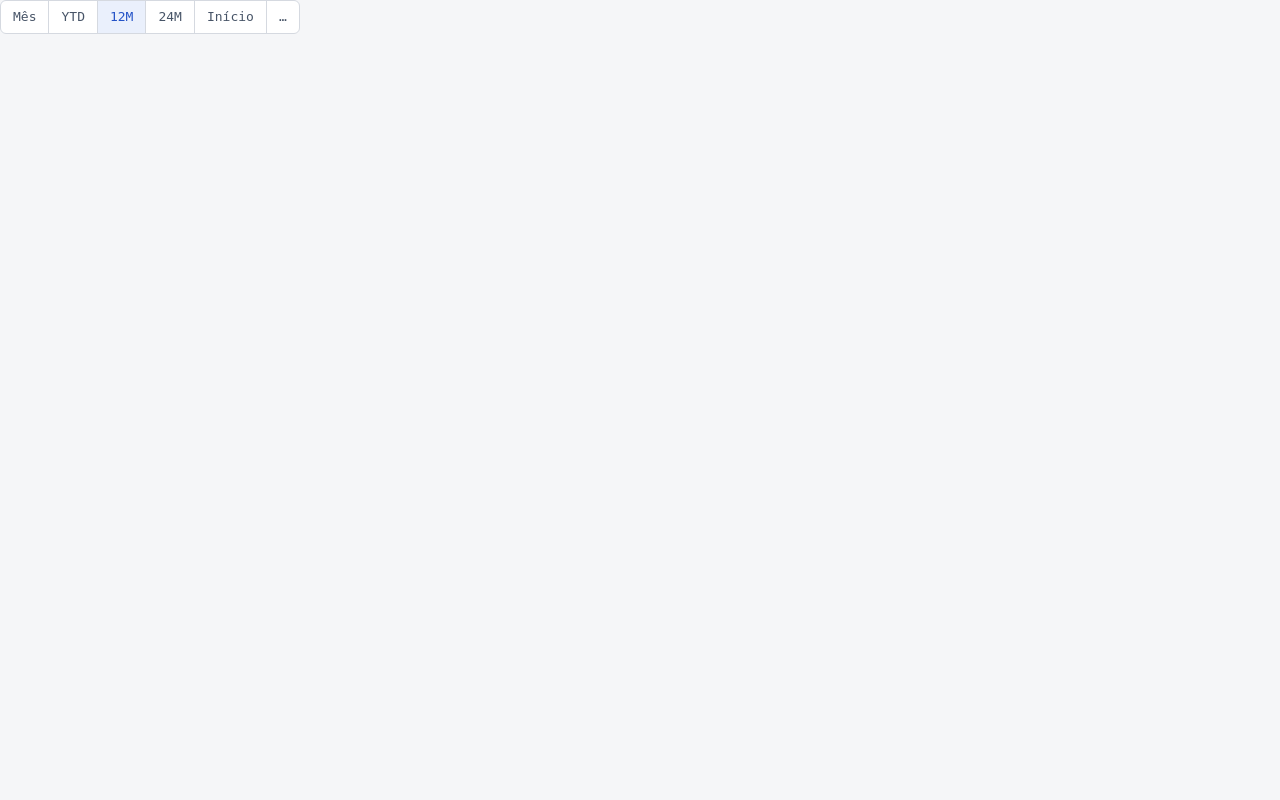
Test: barra de controles › o calendário fecha com Esc e devolve o foco ao botão
Click the button "…". click: click(283, 17)
box: [267,1,299,33]
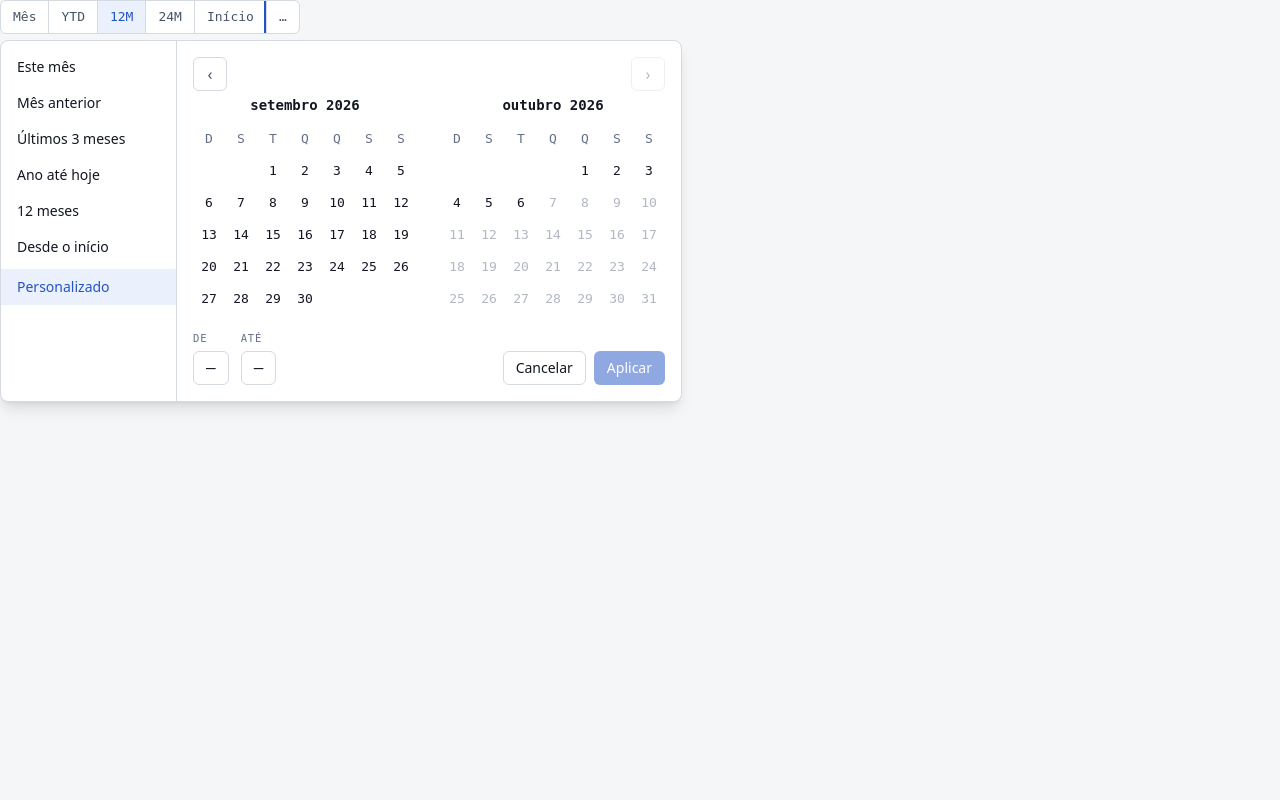
Press Escape
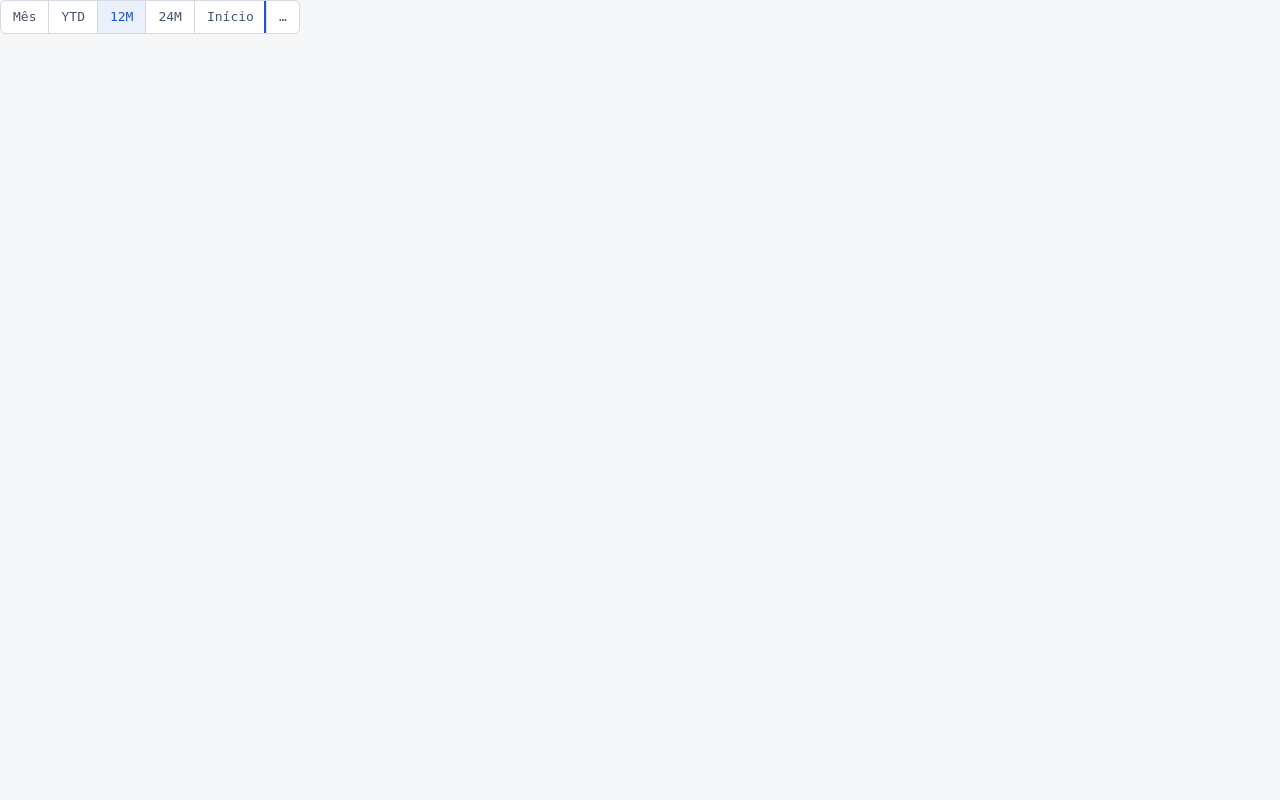
Expected: the dialog is gone
